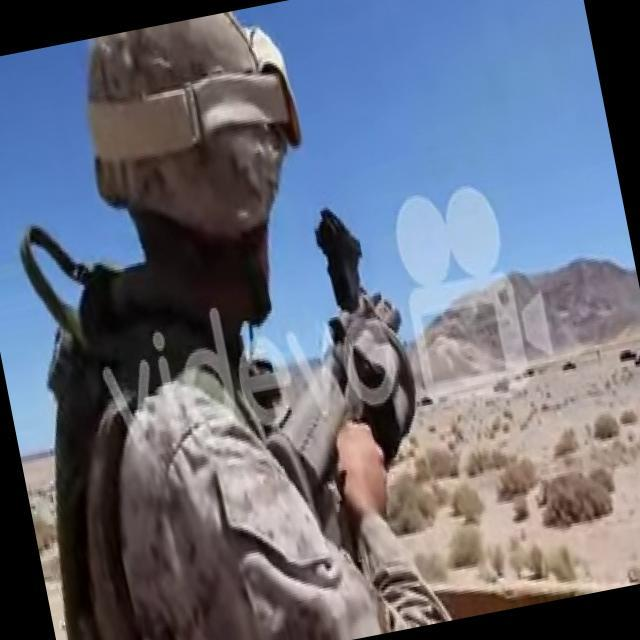rocket: (230, 203, 440, 529)
